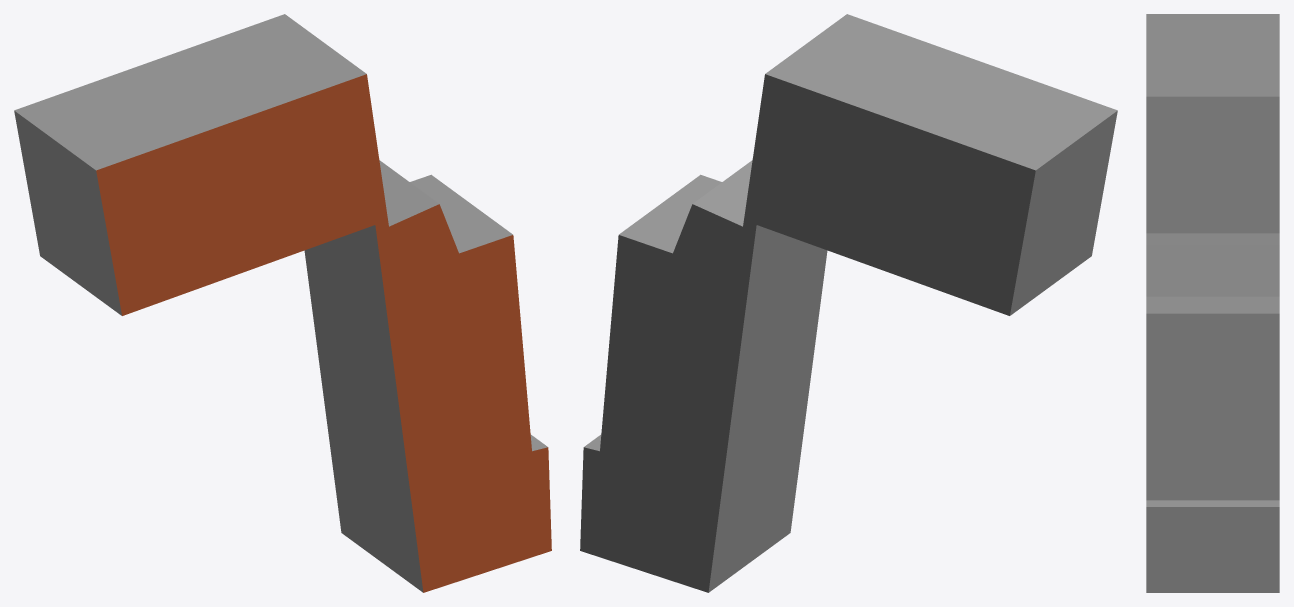
Rendered from construction_2891_assumed_A_Casa_h6m.obj.
3 renders of one model, left to right at view 1: azimuth 30°, elevation 25°; view 2: azimuth 150°, elevation 25°; view 3: azimuth 270°, elevation 25°, orthographic. The views are drawn at different scales.
Parts seen in each view (by area): view 1: construction_2891_assumed_A_Casa; view 2: construction_2891_assumed_A_Casa; view 3: construction_2891_assumed_A_Casa.
Part boxes in pixels (<box>): construction_2891_assumed_A_Casa: <box>14,14,551,592</box>; construction_2891_assumed_A_Casa: <box>580,14,1117,592</box>; construction_2891_assumed_A_Casa: <box>1146,14,1279,592</box>.
Size of the model in its own units: 19.24 by 21.49 by 6.
